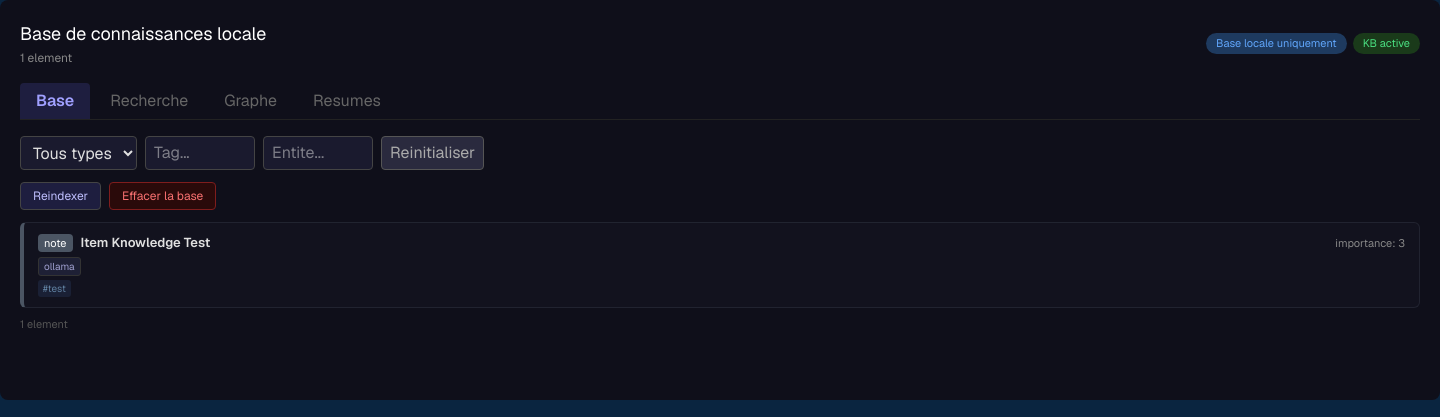
Scenario: KnowledgeBasePanel › bascule vers onglet Graphe
Click the button "Graphe". click: (251,101)
box: [208,83,293,119]
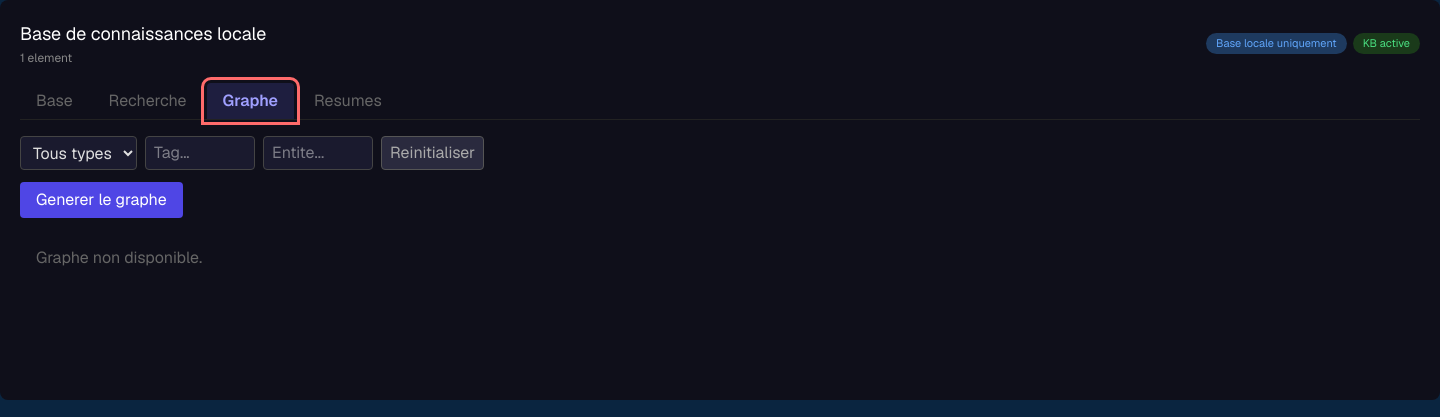
Expected: the button "Generer le graphe" is shown, [20,182,183,218]
